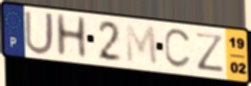2: (97, 20, 123, 64)
C: (163, 27, 194, 70)
H: (54, 12, 89, 59)
M: (124, 21, 160, 68)
U: (23, 9, 56, 57)
Z: (194, 31, 226, 74)
